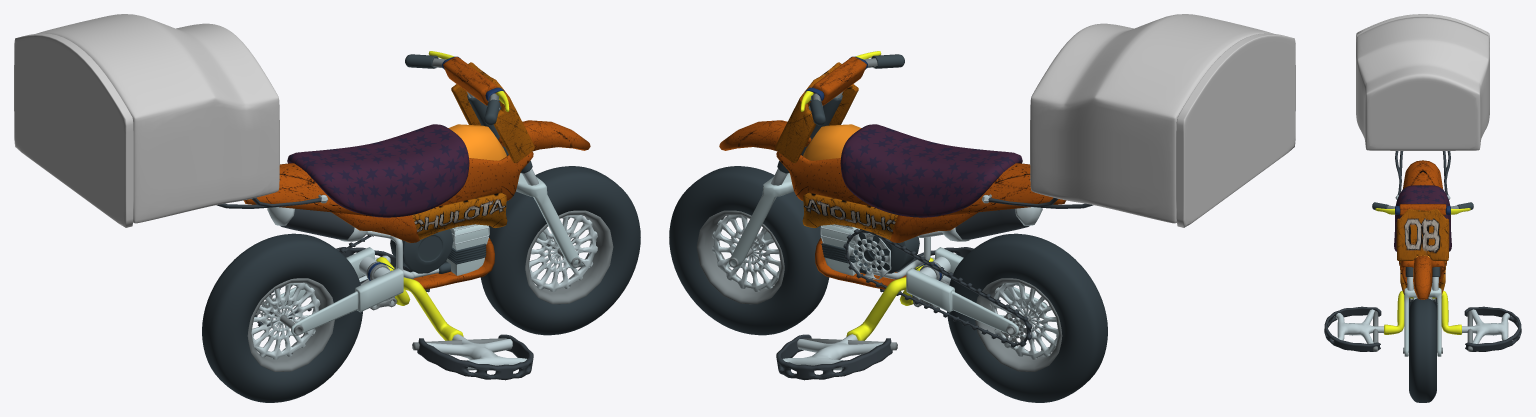
The model's file is Motorcyle.fbx.
The picture shows the model from 3 angles, left to right: view 1: azimuth 30°, elevation 25°; view 2: azimuth 150°, elevation 25°; view 3: azimuth 270°, elevation 25°; orthographic projection. The views are drawn at different scales.
Parts seen in each view (by area): view 1: Caja_High, Tapa, Tire_Back, Tire_Front, Asiento_Low, Protection_Low, Cube, Rin.001, Rin, Ceja, SideProtect, Circle.017 (+14 smaller); view 2: Caja_High, Tapa, Tire_Back, Tire_Front, Asiento_Low, Protection_Low, Cube, Rin, Ceja, SideProtect, Circle.017, Rin.001 (+16 smaller); view 3: Caja_High, Tire_Front, ProtectFront_Low, Circle.017, Plane.002, Protection_Low, Asiento_Low, Plane.012, Cube.001, Pico_Front, Tapa, Parrilla (+5 smaller).
Boxes of the visible parts, x1,y1,x2,y2 form: Caja_High: [36, 14, 279, 223]; Tapa: [14, 33, 133, 227]; Tire_Back: [202, 233, 362, 402]; Tire_Front: [480, 166, 640, 335]; Asiento_Low: [287, 124, 469, 217]; Protection_Low: [243, 137, 533, 289]; Cube: [263, 247, 403, 336]; Rin.001: [251, 282, 320, 359]; Rin: [529, 215, 597, 291]; Ceja: [525, 210, 613, 304]; SideProtect: [407, 192, 507, 242]; Circle.017: [336, 247, 533, 380]; Caja_High: [1030, 14, 1273, 223]; Tapa: [1176, 33, 1295, 227]; Tire_Back: [947, 233, 1107, 402]; Tire_Front: [669, 166, 829, 335]; Asiento_Low: [840, 124, 1022, 217]; Protection_Low: [776, 137, 1066, 289]; Cube: [906, 247, 1047, 336]; Rin: [712, 215, 780, 291]; Ceja: [696, 210, 784, 304]; SideProtect: [802, 192, 902, 242]; Circle.017: [776, 247, 973, 380]; Rin.001: [989, 282, 1058, 359]; Caja_High: [1356, 17, 1489, 150]; Tire_Front: [1409, 298, 1436, 402]; ProtectFront_Low: [1396, 209, 1449, 260]; Circle.017: [1324, 306, 1521, 351]; Plane.002: [1335, 309, 1510, 343]; Protection_Low: [1399, 160, 1446, 285]; Asiento_Low: [1394, 185, 1451, 251]; Plane.012: [1384, 291, 1461, 334]; Cube.001: [1404, 286, 1441, 356]; Pico_Front: [1413, 255, 1432, 299]; Tapa: [1356, 14, 1489, 47]; Parrilla: [1395, 151, 1450, 199].
Size of the model in its own units: 584 by 396 by 294.
